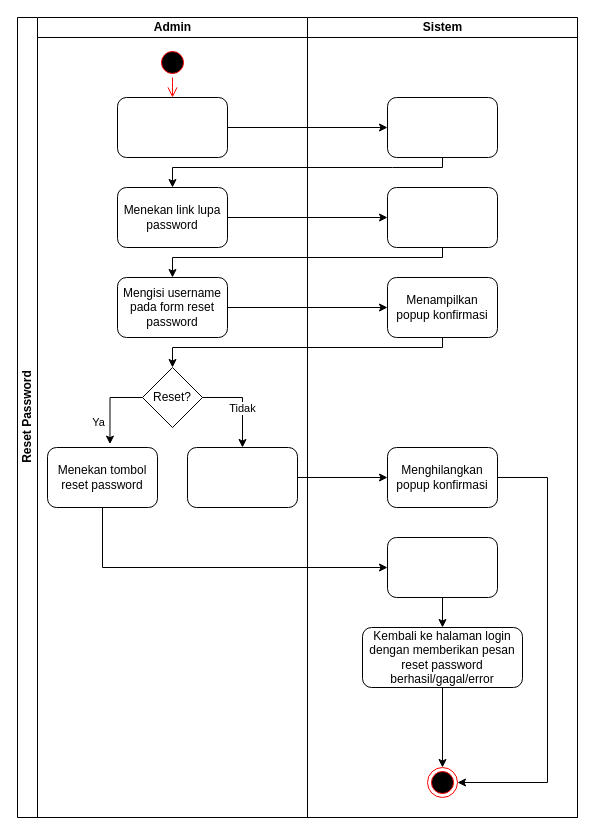
This 595x835 diagram has some shape labels left out. The centre of each missing label's shape, as x and y in pixels:
Membuka halaman login: the point at 172,127
Menampilkan halaman login: the point at 442,127
Menampilkan halaman reset password: the point at 442,217
Menekan tombol batal: the point at 242,477
Mereset ke password default berdasarkan user: the point at 442,567
